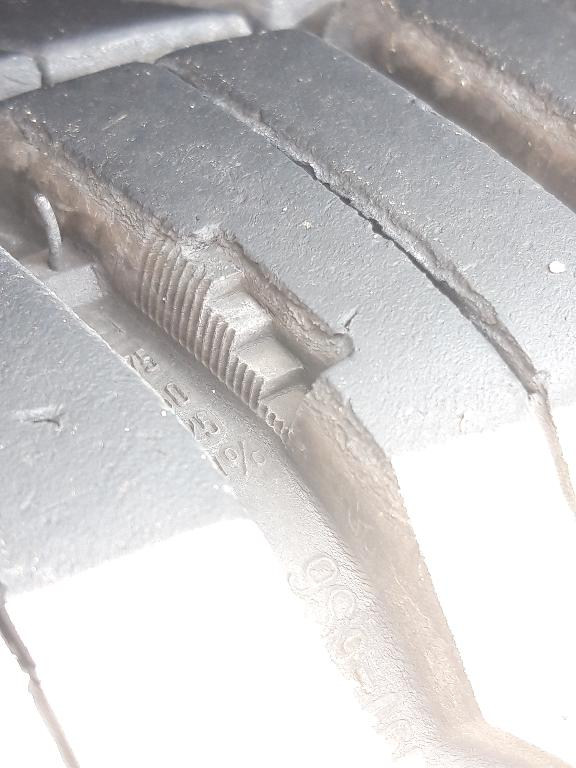temoin:90: (126, 197, 372, 464)
